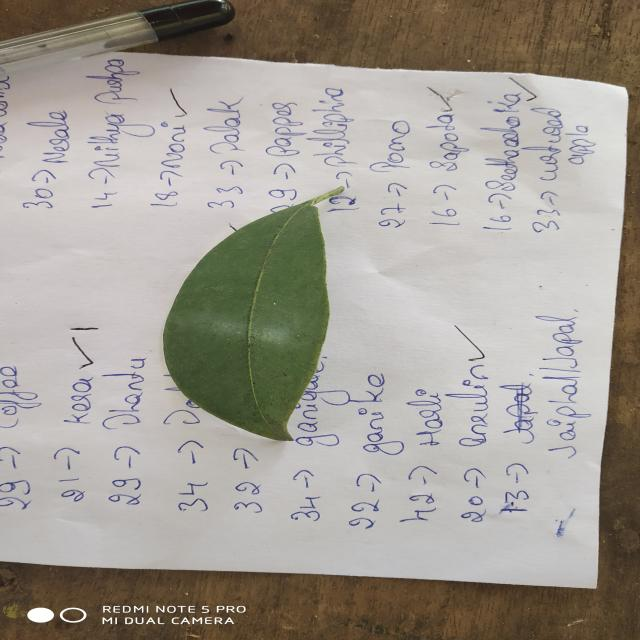sapota: (162, 186, 344, 441)
